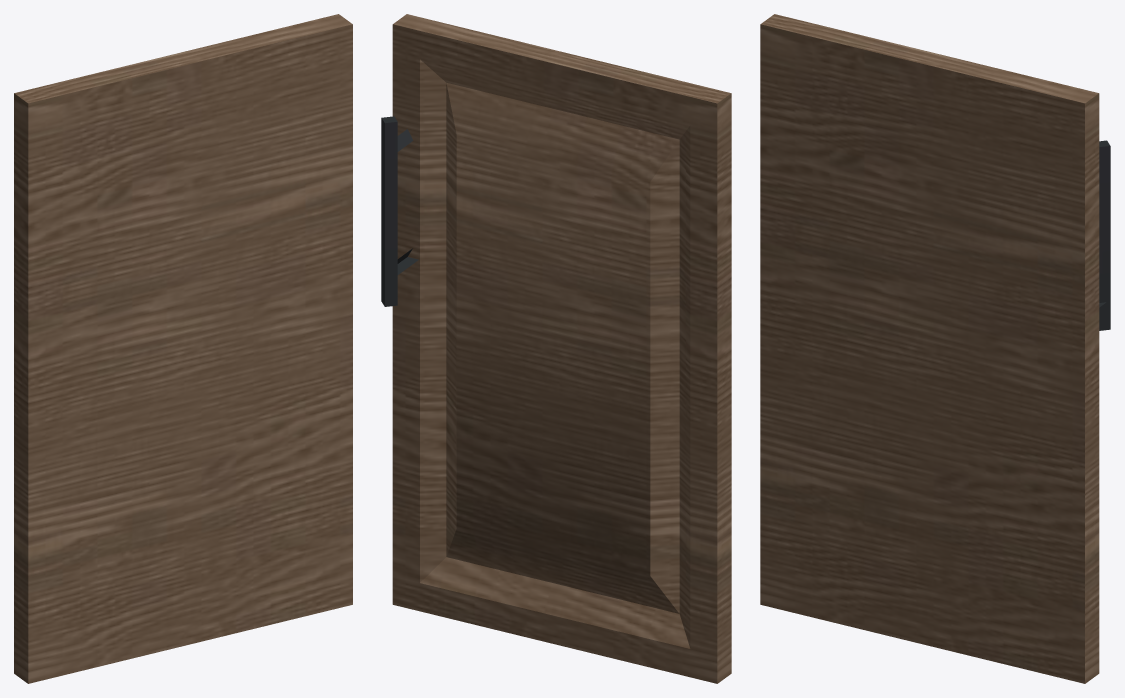
The model's file is Washbasin_door_03.glb.
3 renders of one model, left to right at view 1: azimuth 30°, elevation 25°; view 2: azimuth 150°, elevation 25°; view 3: azimuth 330°, elevation 25°, orthographic.
Visible parts, largest first — view 1: Washbasin_door_03; view 2: Washbasin_door_03; view 3: Washbasin_door_03.
Part boxes in pixels (bbox=[...]): Washbasin_door_03: bbox=[14, 14, 352, 683]; Washbasin_door_03: bbox=[381, 14, 731, 683]; Washbasin_door_03: bbox=[760, 14, 1110, 683].
Size of the model in its own units: 0.3528 by 0.6028 by 0.08.
2 materials, 2 textured.
